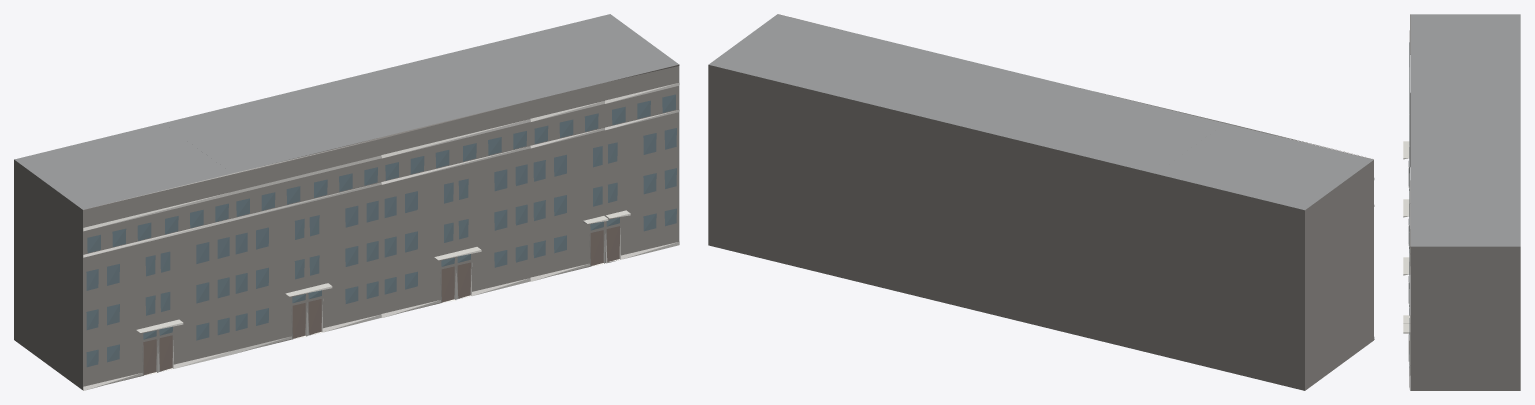
File: chunk-face-theron-2-36-r1.lod2.glb
3 renders of one model, left to right at view 1: azimuth 30°, elevation 25°; view 2: azimuth 150°, elevation 25°; view 3: azimuth 270°, elevation 25°, orthographic. The views are drawn at different scales.
Visible parts, largest first — view 1: lod2; view 2: lod2; view 3: lod2.
Part boxes in pixels (<box>): lod2: <box>14,14,679,390</box>; lod2: <box>708,14,1374,390</box>; lod2: <box>1403,14,1520,390</box>.
Bounding box in the file's own units: 48 × 13.93 × 10.22.
